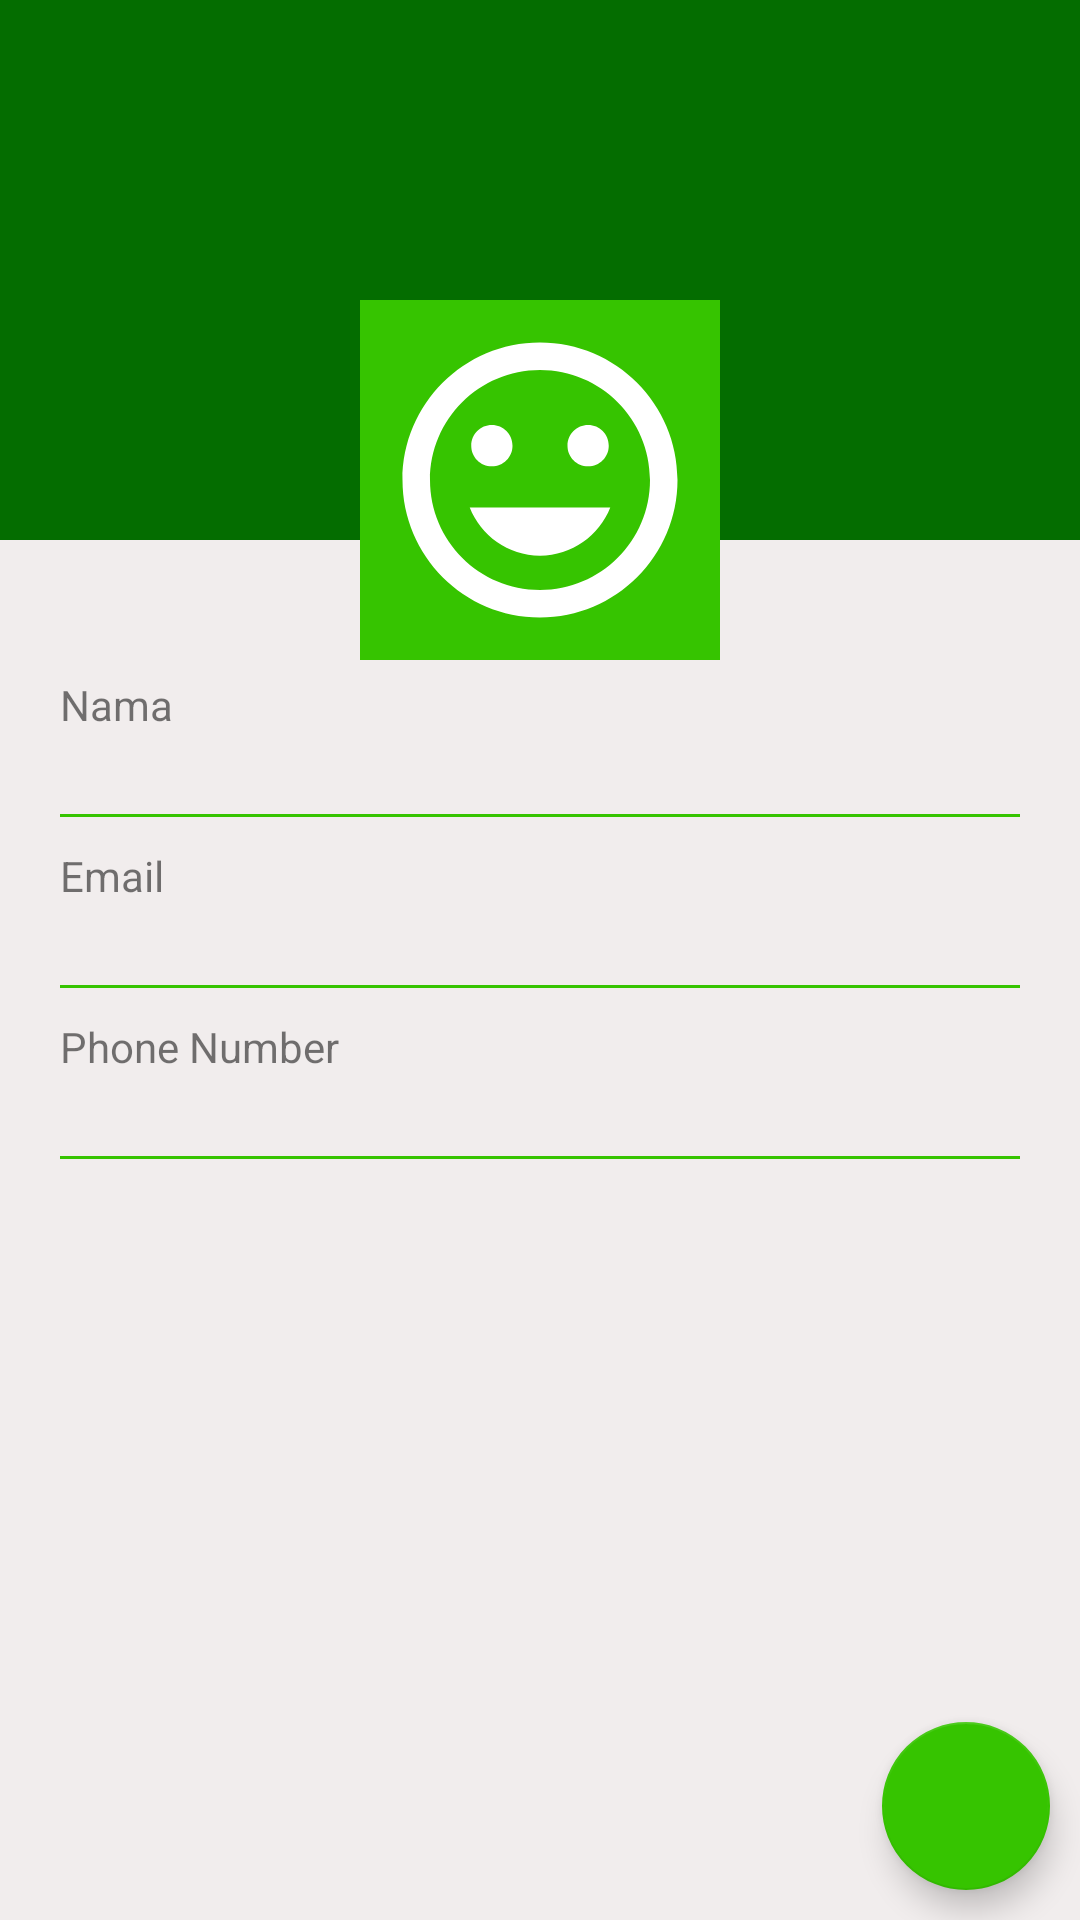

Icon click points for this 1080 x 1920 phone screenshot, format [x,y]:
mood: [540,480]
